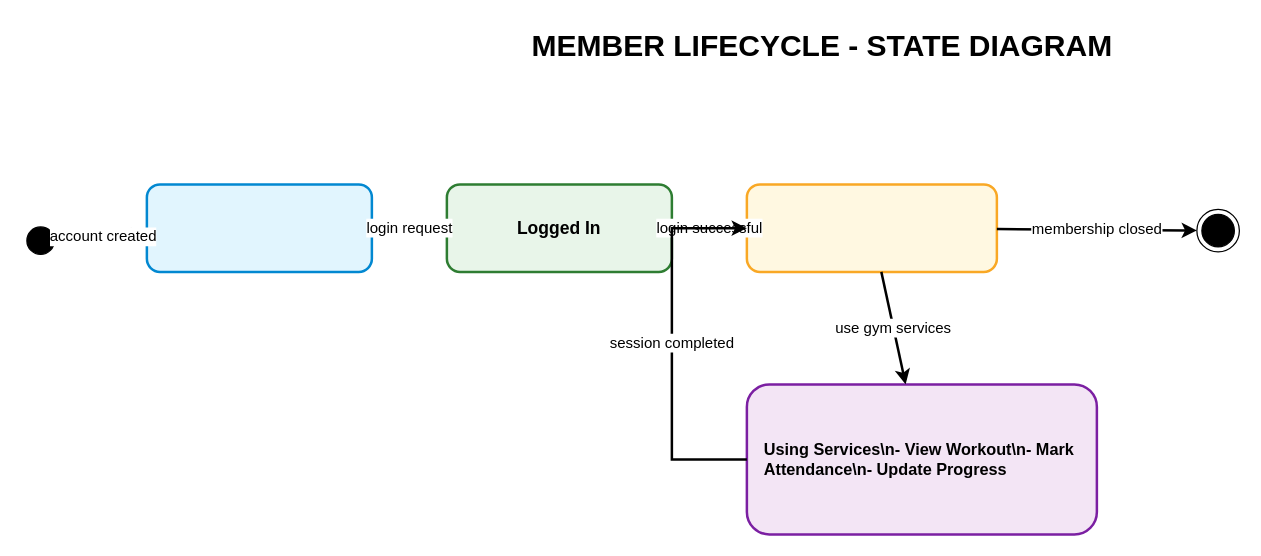
This 1261x556 diagram has some shape labels left out. Here are the shapes that lost their labels. From the top down, the centre of each, then its label:
At point (258, 227): "Registered".
At point (871, 227): "Active Member".
